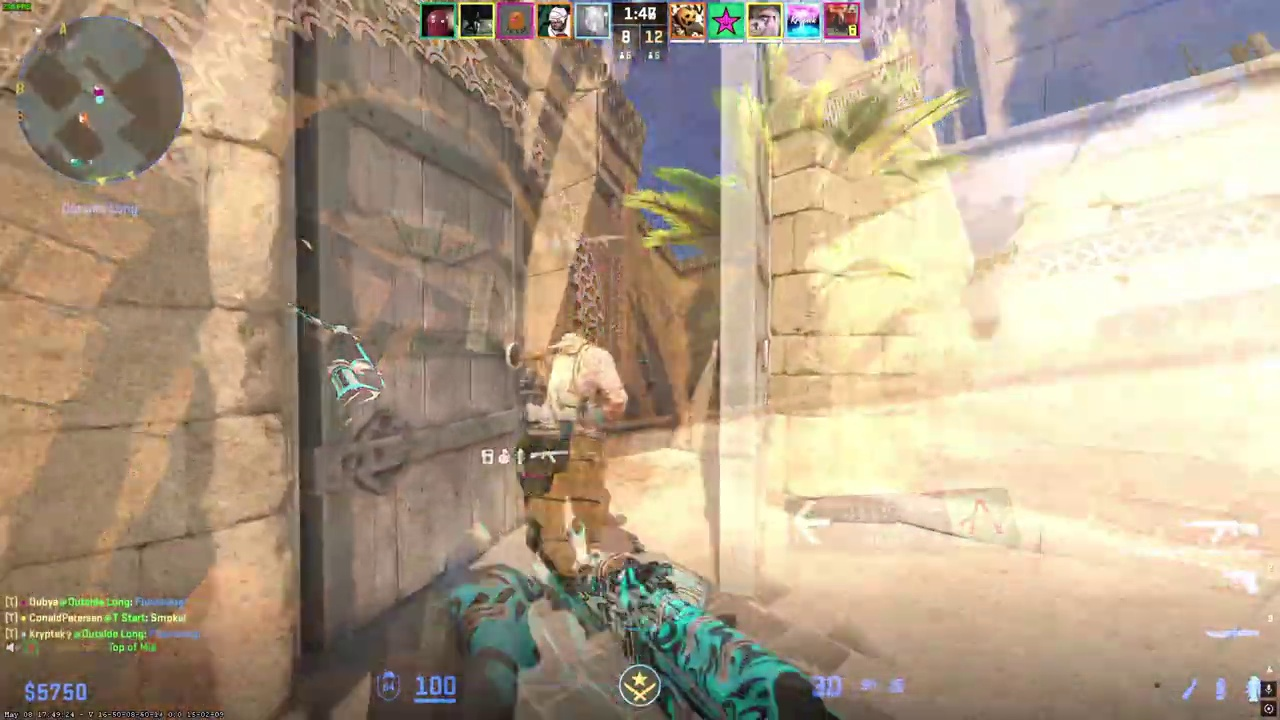Terrorist: (514, 314, 628, 591)
